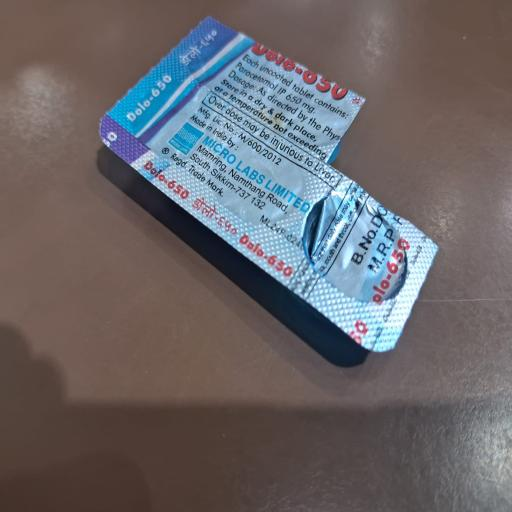dolo-650: (254, 30, 350, 107), (236, 210, 304, 287), (365, 226, 420, 316), (144, 140, 191, 210)
medicine: (94, 8, 435, 361)
